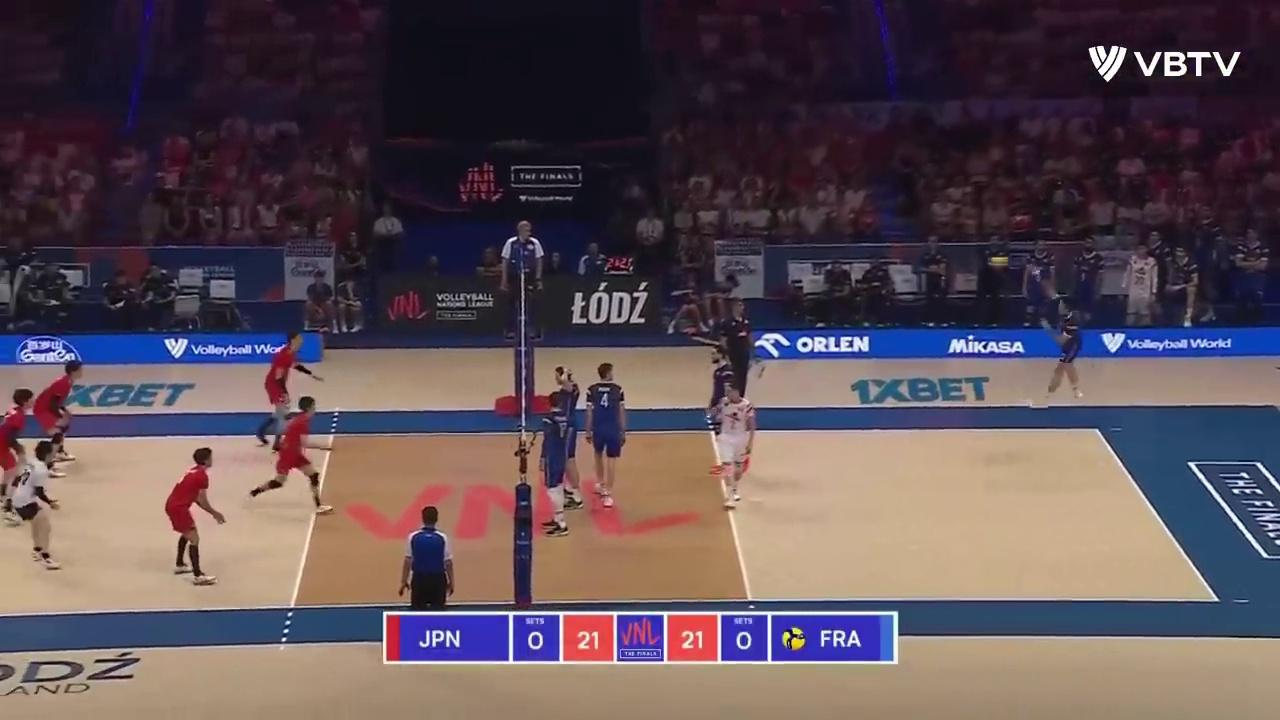ball: (989, 256, 1009, 267)
